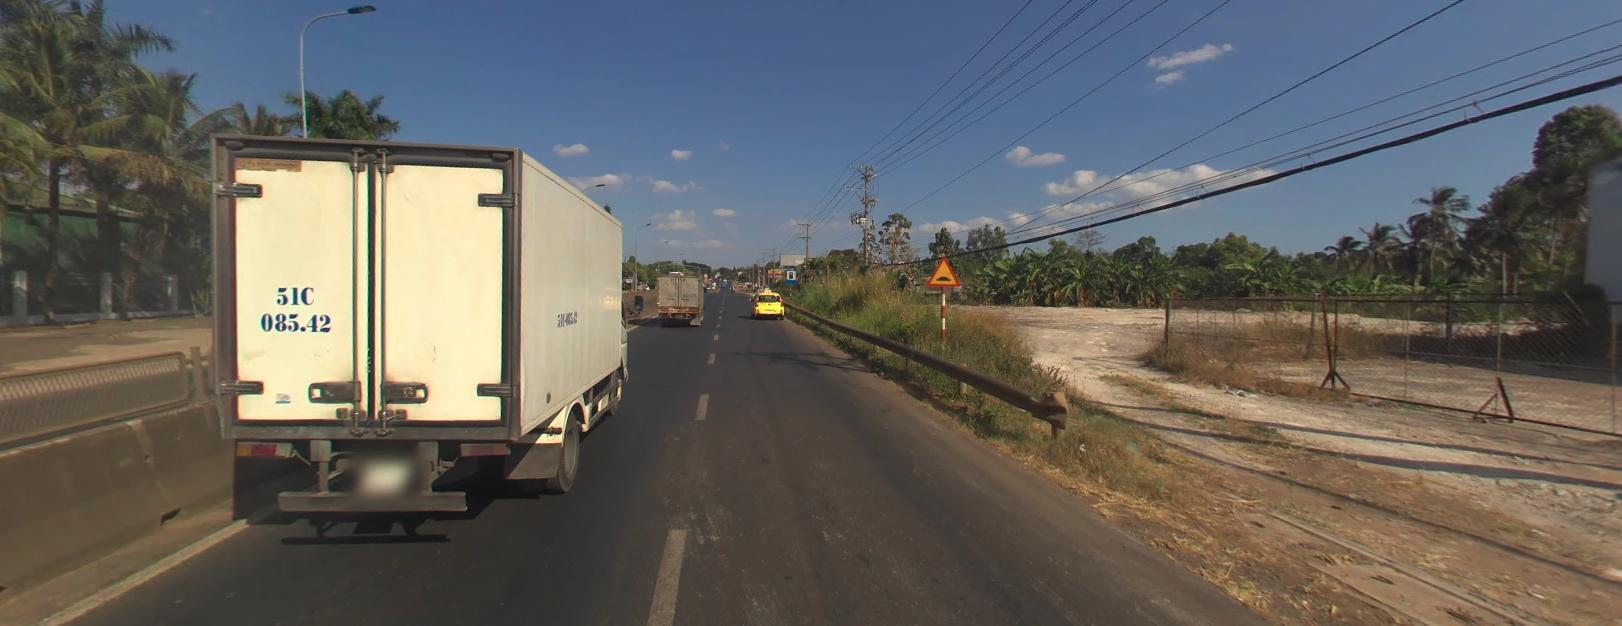Nguy hiem: (927, 255, 959, 284)
